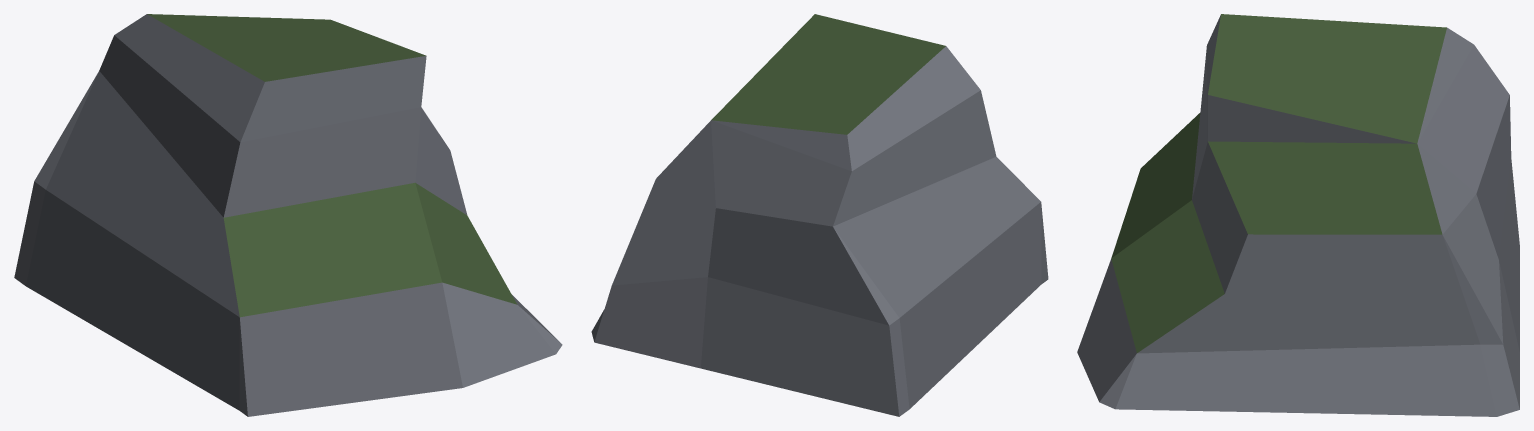
File: rock-moss-3.glb
3 renders of one model, left to right at view 1: azimuth 30°, elevation 25°; view 2: azimuth 150°, elevation 25°; view 3: azimuth 270°, elevation 25°, orthographic. The views are drawn at different scales.
Visible parts, largest first — view 1: Rock_Moss_3; view 2: Rock_Moss_3; view 3: Rock_Moss_3.
Part boxes in pixels (x1,y1,x2,y2): Rock_Moss_3: [14, 14, 562, 416]; Rock_Moss_3: [591, 14, 1048, 416]; Rock_Moss_3: [1077, 14, 1519, 416].
Size of the model in its own units: 0.7384 by 0.5567 by 0.8026.
